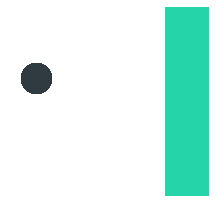circle: (21, 63, 51, 93)
rectangle: (165, 7, 208, 195)
